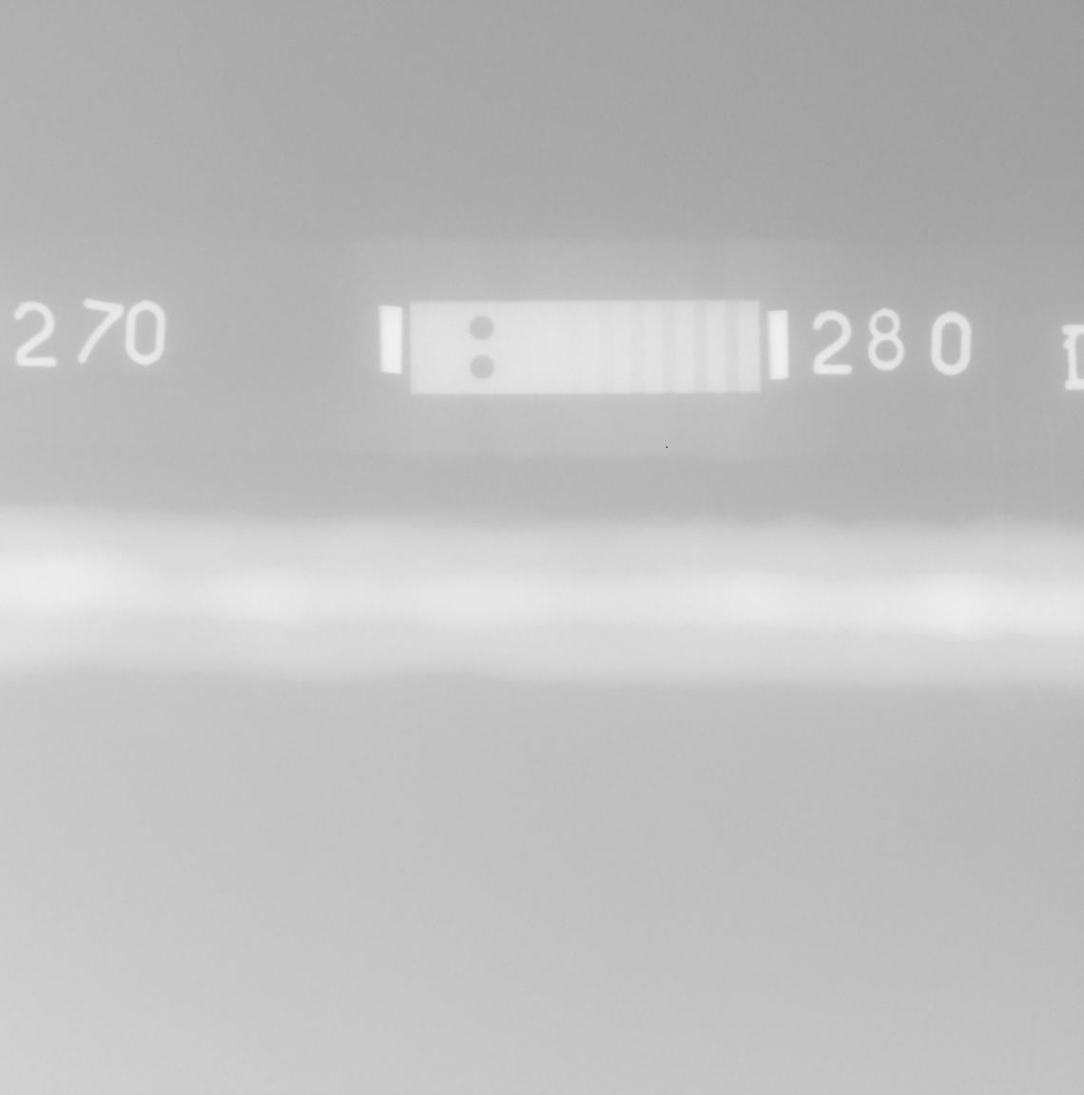Reference Standard 2: (410, 300, 761, 394)
